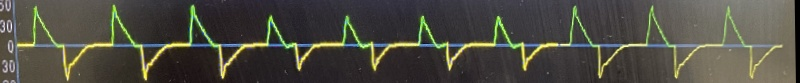normal_flow: (9, 5, 792, 79)
